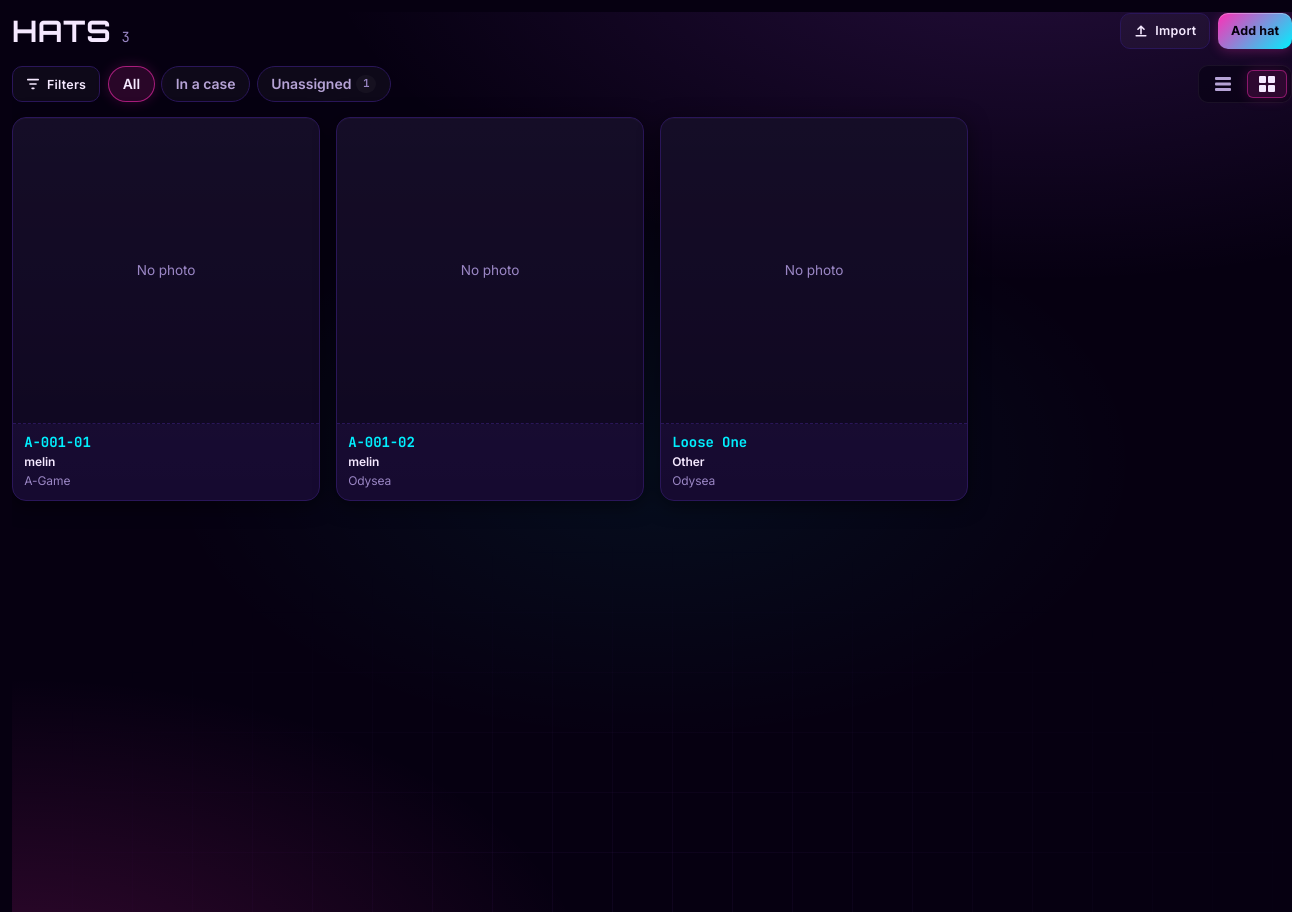
Test case: HatsPage › mirrors a placement chip into the URL and back out again
Expected: the text "A-001-01" is shown, [24,433,91,451]
Step 1. Click the button "Unassigned 1" → (324, 84), box [256,66,391,102]
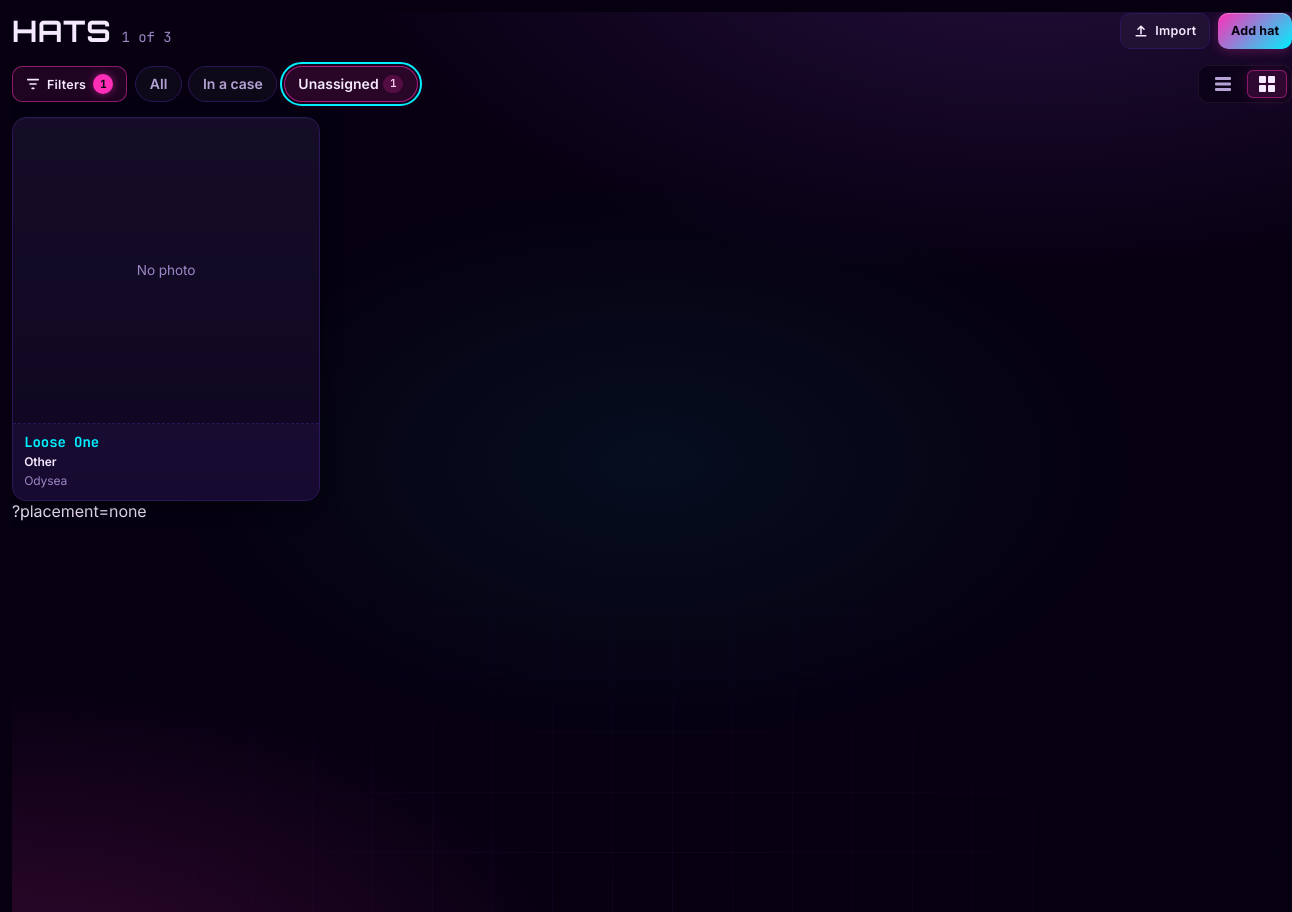
Expected: the text "Loose One" is shown, [24,433,99,451]
Now the link "A-001-01" is gone
Step 2. Click the button "All" → (159, 84), box [135,66,182,102]
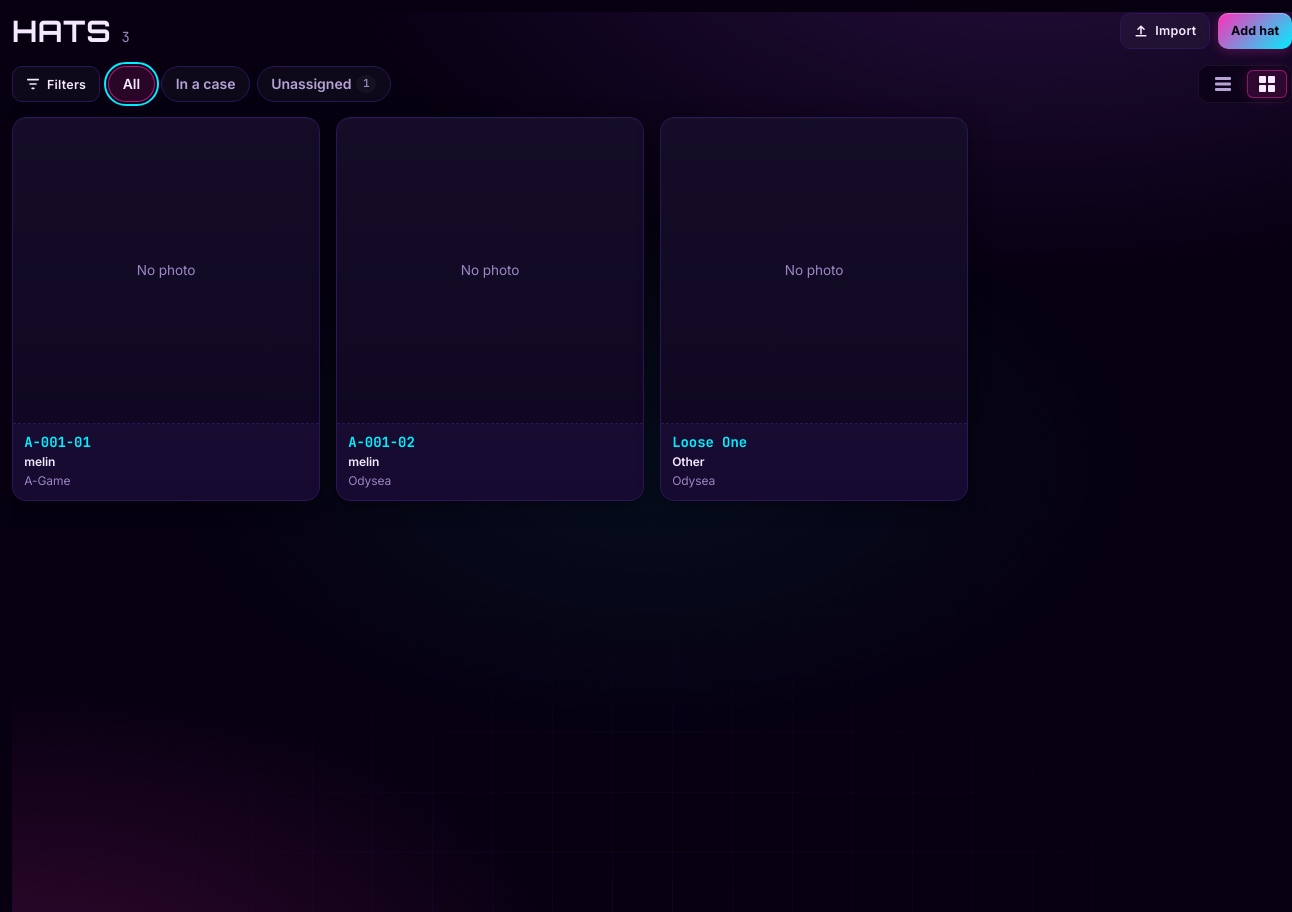
Now the text "A-001-01" is shown, box [24,433,91,451]
